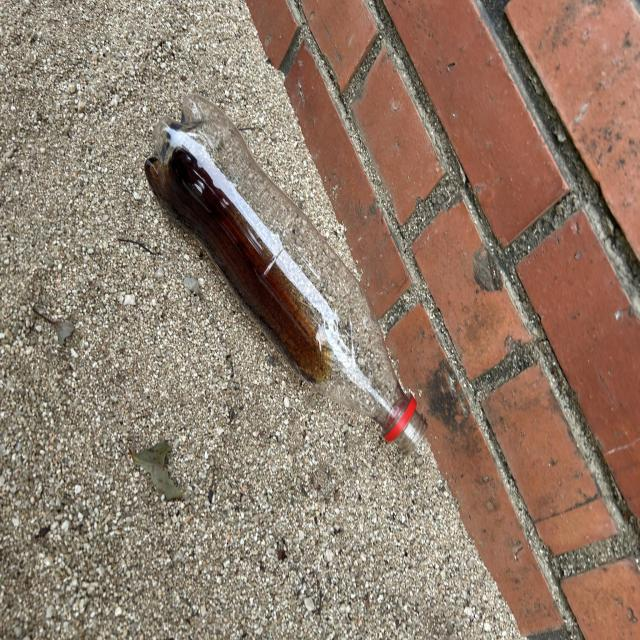low: (145, 95, 427, 451)
